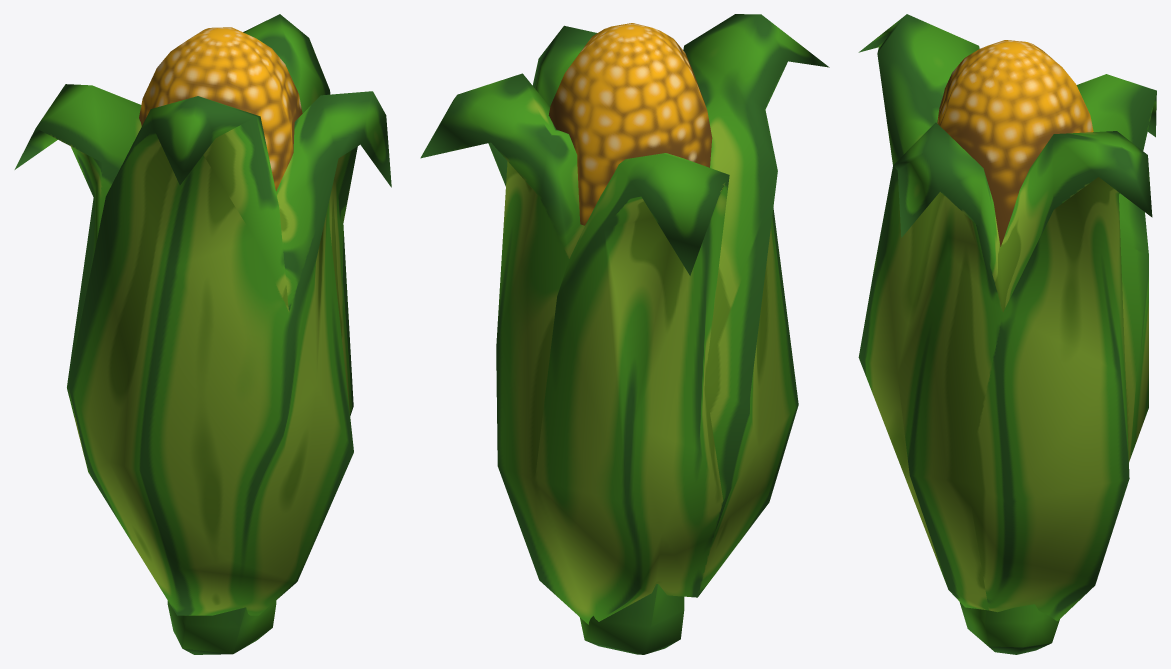
The model's file is Corn_01.fbx.
3 views of the same model, side by side, from view 1: azimuth 30°, elevation 25°; view 2: azimuth 150°, elevation 25°; view 3: azimuth 270°, elevation 25° (orthographic). The views are drawn at different scales.
Visible parts, largest first — view 1: Corn_01; view 2: Corn_01; view 3: Corn_01.
Boxes of the visible parts, x1,y1,x2,y2 form: Corn_01: (14, 14, 391, 654); Corn_01: (420, 14, 829, 654); Corn_01: (858, 14, 1156, 654).
Size of the model in its own units: 36.31 by 77.16 by 35.06.
